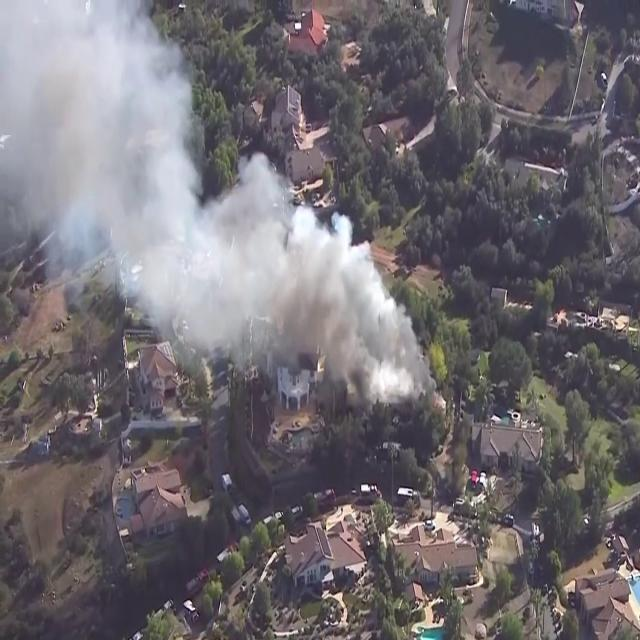Smoke: (0, 1, 437, 398)
